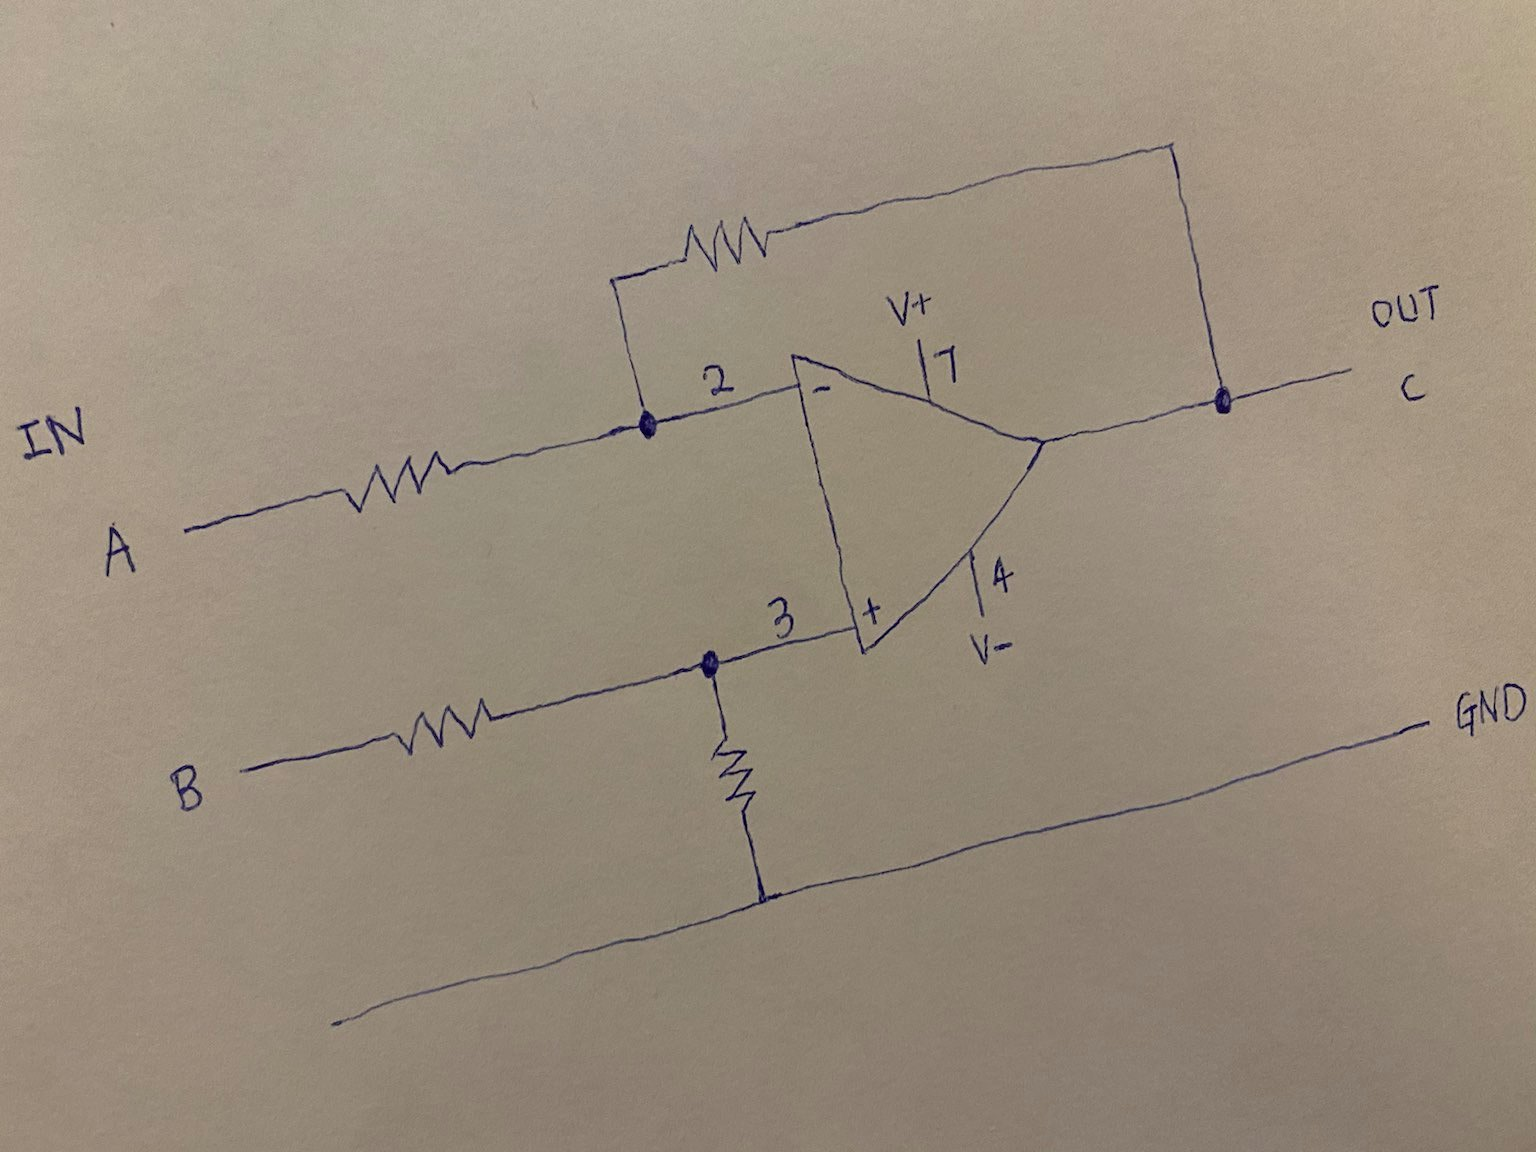junction: (614, 392, 677, 459), (734, 876, 799, 928), (677, 637, 733, 697), (1195, 371, 1251, 425), (1145, 119, 1196, 175), (589, 260, 635, 306)
operational_amplifier: (786, 335, 1047, 658)
resistor: (317, 447, 483, 518), (381, 693, 516, 767), (659, 211, 781, 278), (708, 727, 766, 826)
terminal: (300, 1000, 399, 1036), (1315, 349, 1373, 388), (226, 747, 283, 787), (1391, 702, 1440, 744), (167, 512, 231, 545)
text: (8, 401, 94, 470), (1453, 674, 1529, 739), (1367, 281, 1444, 330), (98, 519, 148, 582), (163, 762, 212, 818), (882, 282, 936, 328), (758, 583, 799, 643), (965, 630, 1020, 666), (984, 551, 1021, 598), (1393, 368, 1433, 409), (934, 341, 970, 386), (698, 359, 737, 397), (860, 592, 889, 627), (808, 376, 835, 404)
